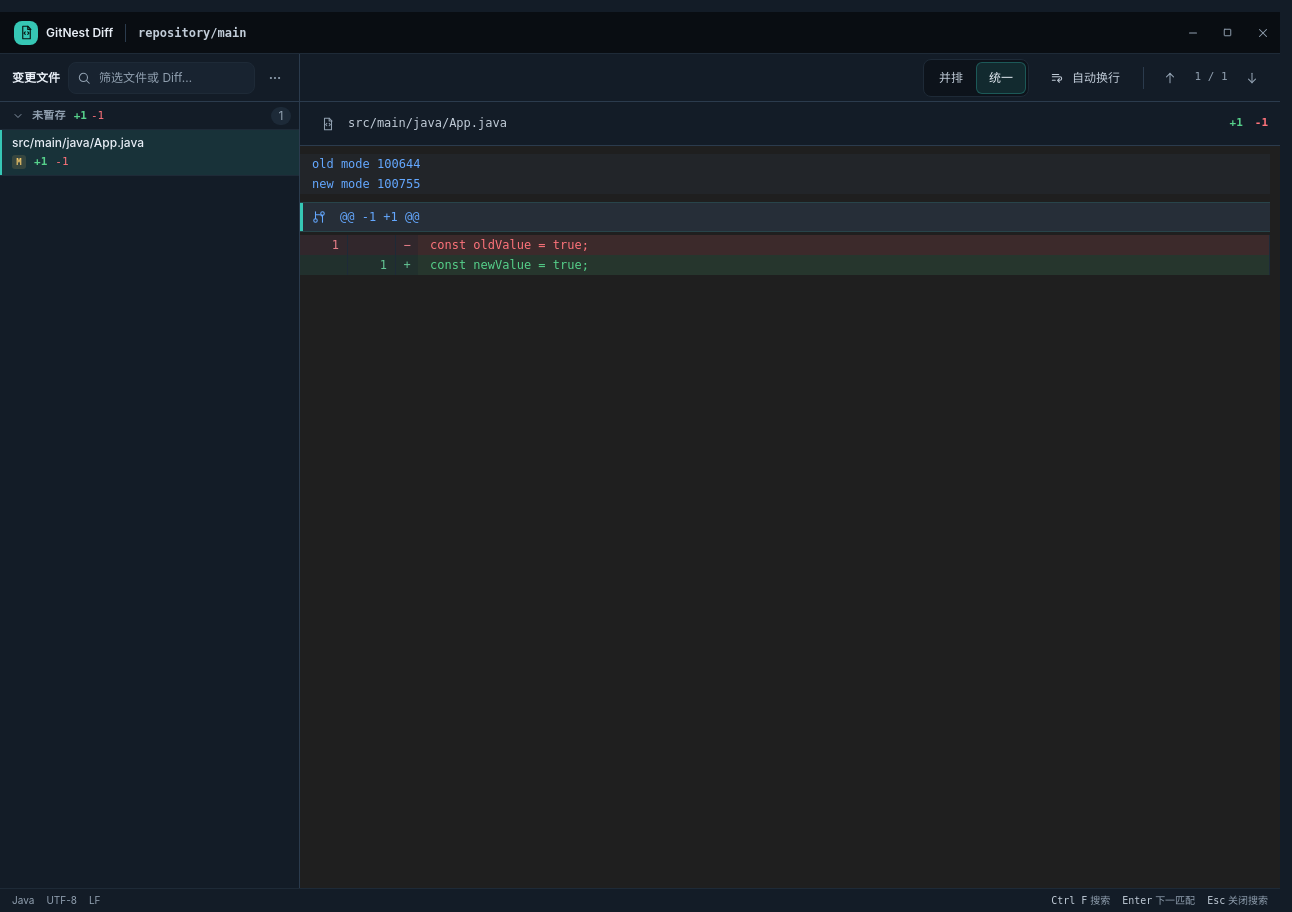
Test: DiffViewerApp › keeps a loaded single-file list visible when its refresh fails
Expected: the number of elements with class "diff-workspace-file" is 1, x1=0 y1=130 x2=299 y2=176
Step 1. Click the button titled "变更文件视图" → [275, 78], box x1=259 y1=62 x2=291 y2=94
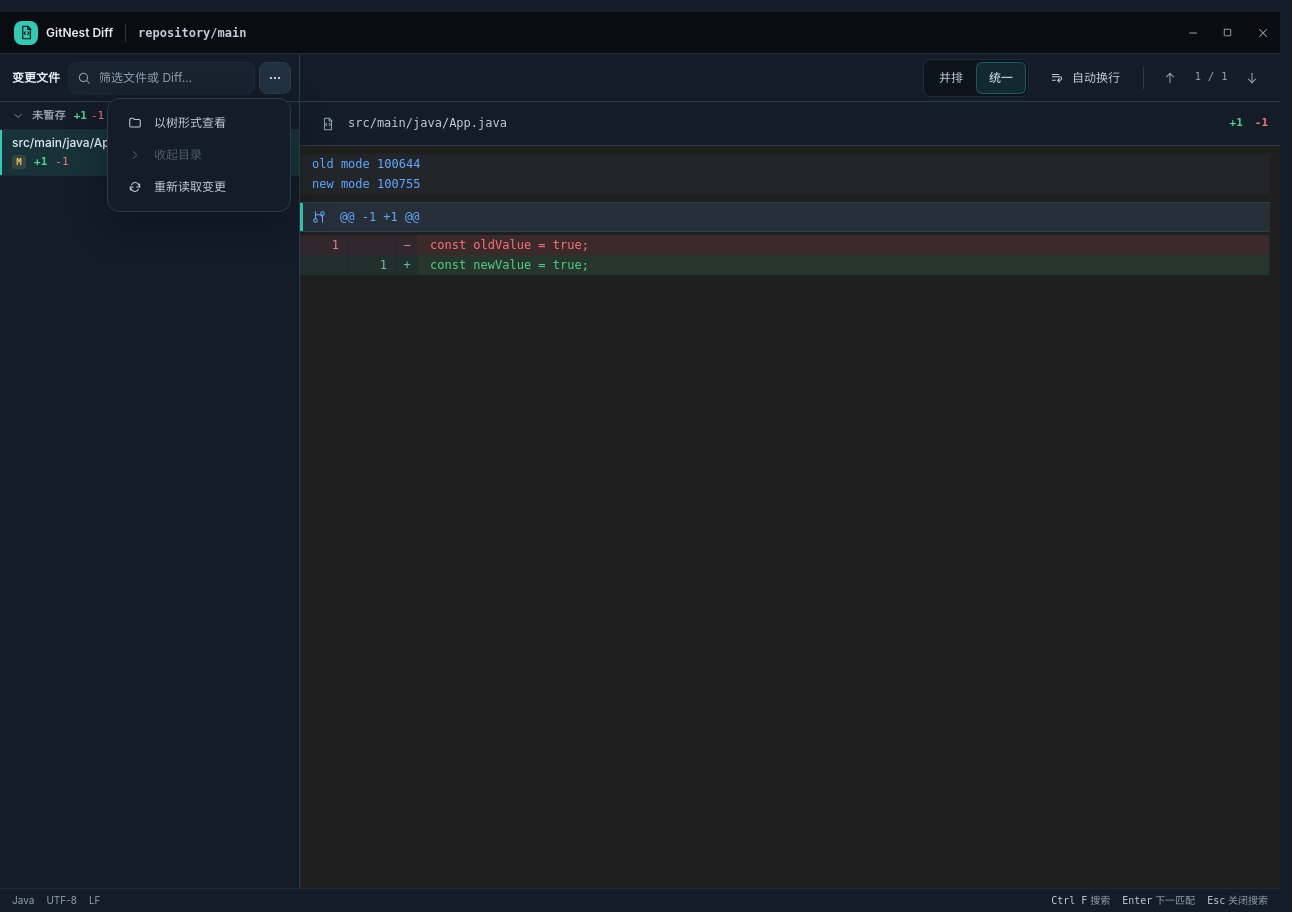
Step 2. Click the menu item "重新读取变更" → [199, 186], box x1=116 y1=170 x2=282 y2=202
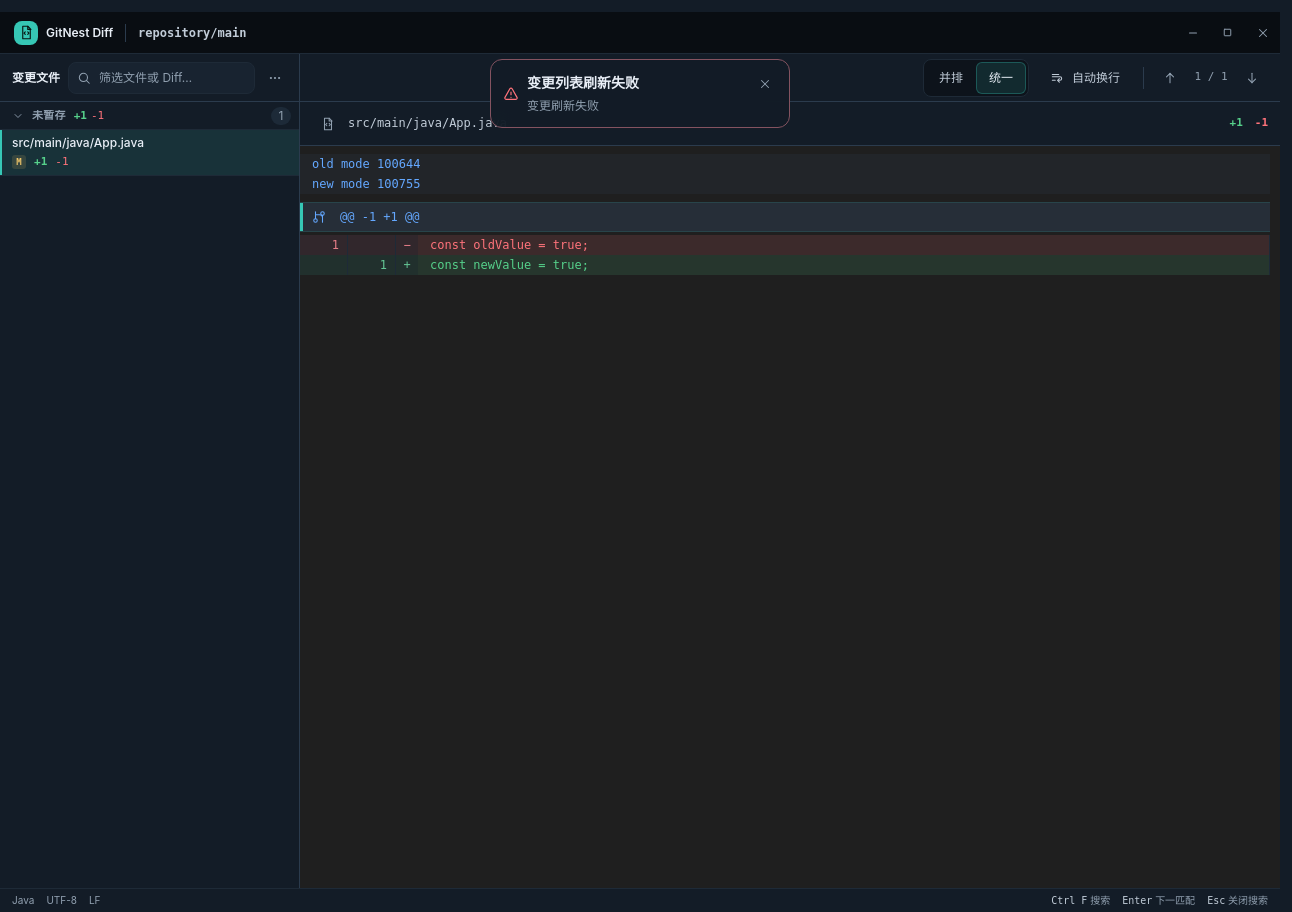
Expected: the number of elements with class "diff-workspace-file" is 1, x1=0 y1=130 x2=299 y2=176
Expected: the text "变更刷新失败" is shown, x1=527 y1=98 x2=599 y2=113
